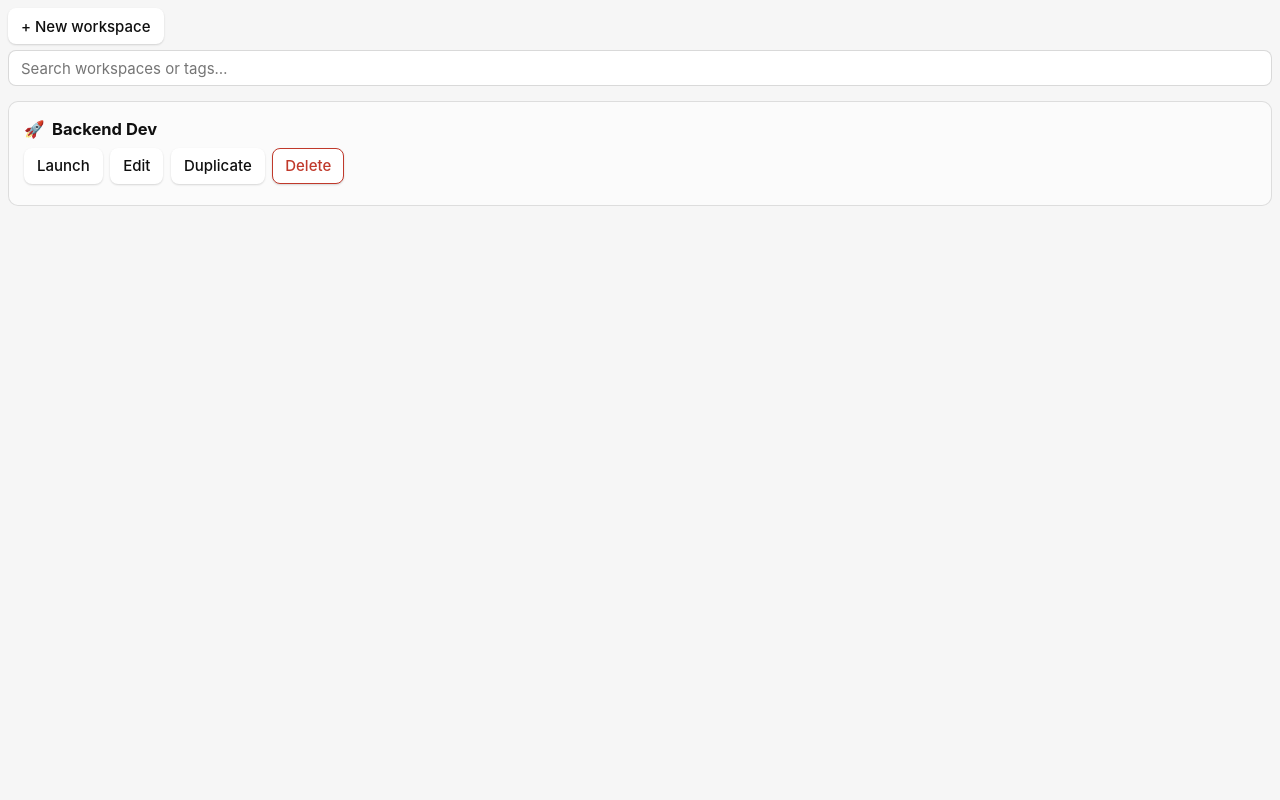
Test: WorkspaceList › dismissing the undo banner clears it without restoring
Click the button "Delete". click: (308, 166)
box: [272, 148, 344, 184]
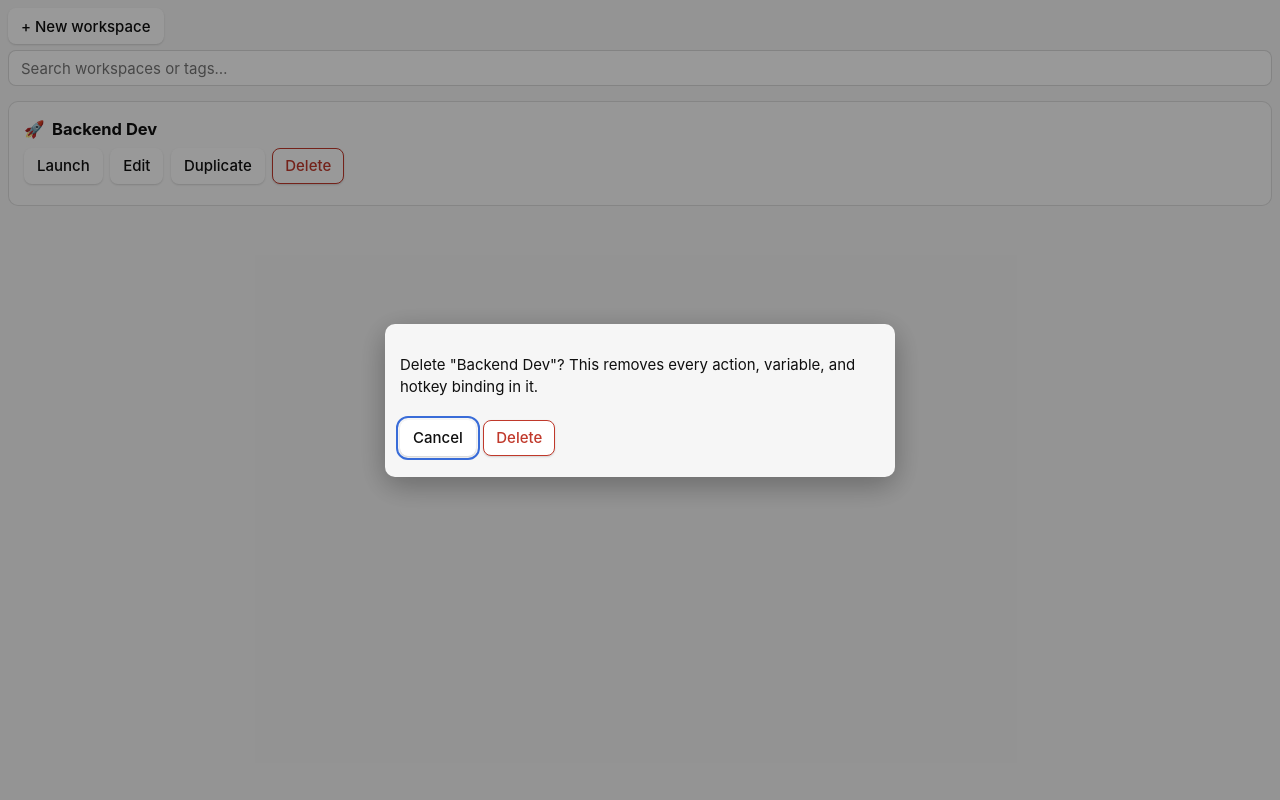
Click the button "Delete". click: (519, 438)
box: [483, 420, 555, 456]
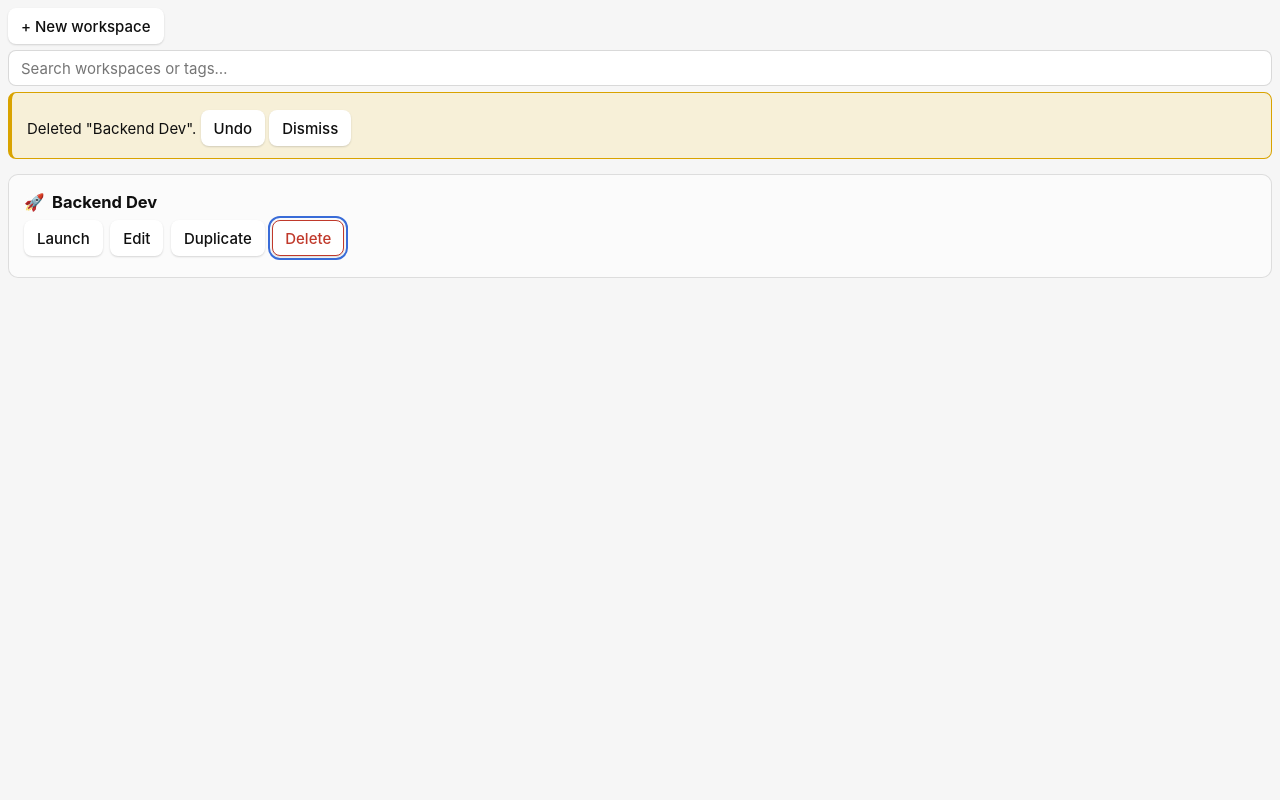
Click the button with aria-label "dismiss undo". click: (310, 128)
box: [269, 110, 351, 146]
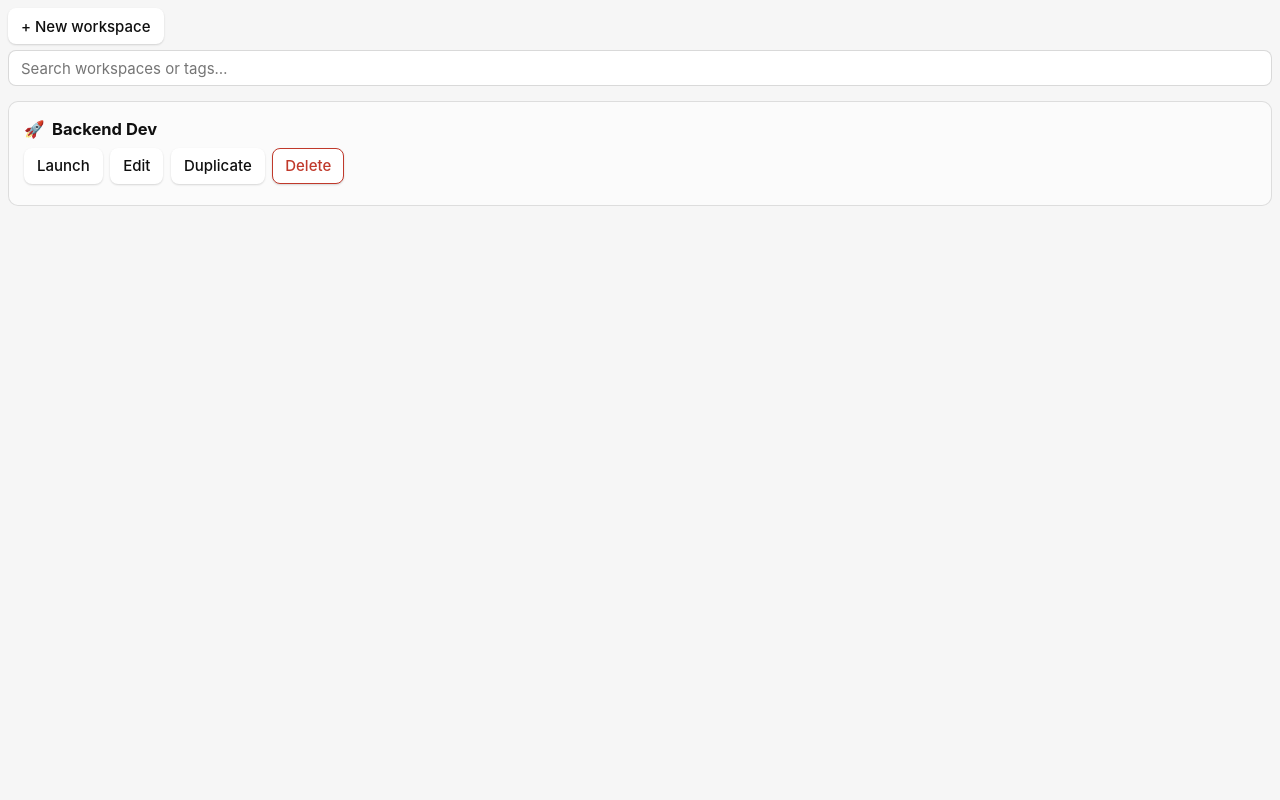
Expected: the button "Undo" is gone
